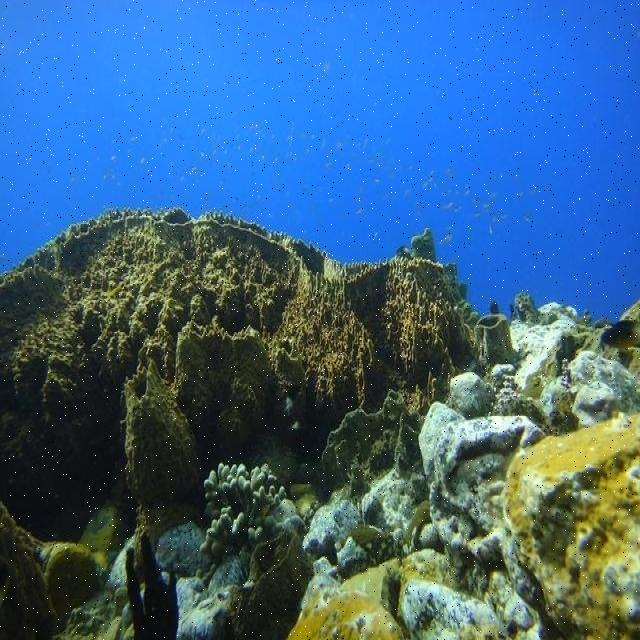reefs: (0, 208, 477, 552), (198, 461, 289, 563), (127, 533, 180, 639)
